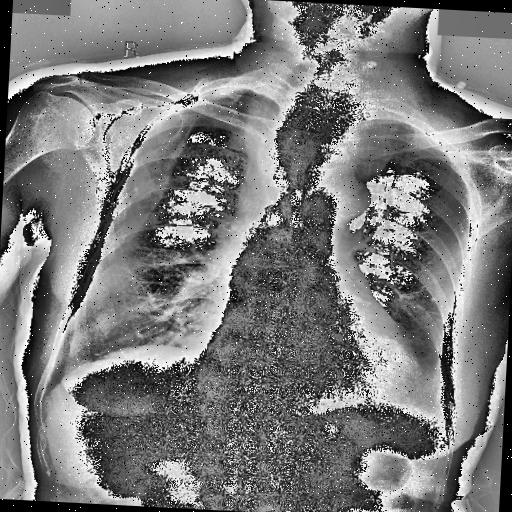0- Aortic enlargement: (296, 168, 373, 258), (300, 172, 372, 236), (300, 172, 372, 220)
10- Pleural effusion: (393, 346, 473, 434)
11- Pleural thickening: (393, 346, 473, 434), (332, 114, 424, 135)
3- Cardiomegaly: (207, 298, 425, 402), (202, 312, 426, 402), (198, 325, 422, 406)
7- Lung Opacity: (244, 92, 406, 174)
8- Nodule-Mass: (344, 116, 400, 183)
9- Other lesion: (224, 114, 324, 274), (282, 80, 410, 188)
